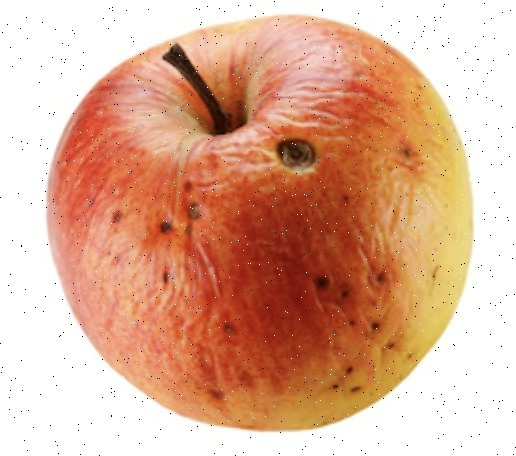rotten_apple: (48, 14, 474, 432)
